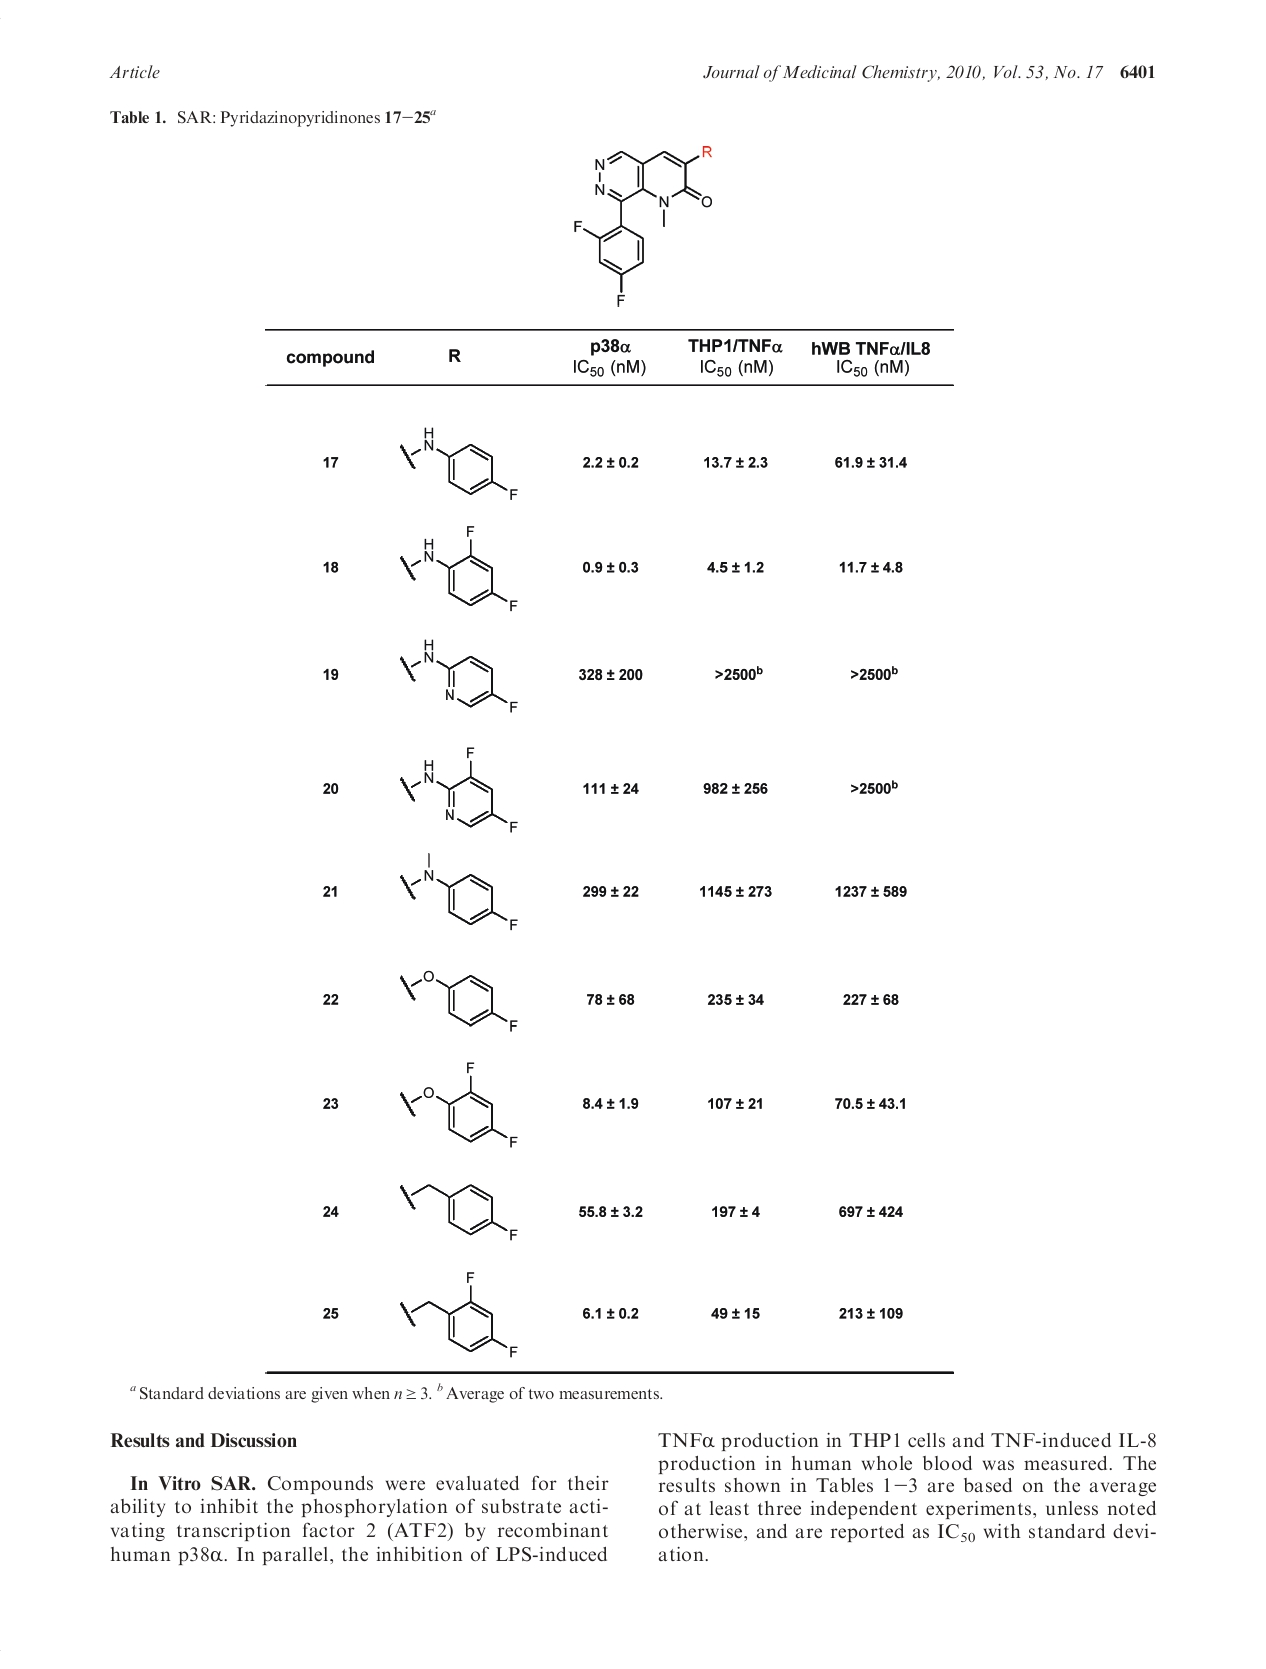exist_molecular: (572, 142, 715, 307), (400, 1059, 521, 1152), (398, 523, 520, 614), (398, 743, 519, 835), (398, 1269, 520, 1358), (398, 848, 519, 931), (398, 423, 519, 504), (398, 638, 519, 715), (398, 965, 521, 1037), (396, 1182, 519, 1243)
